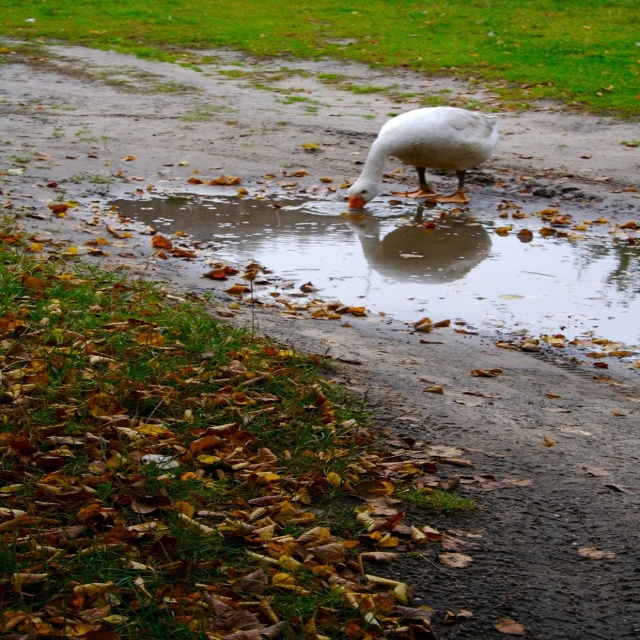Goose: (348, 107, 510, 210)
